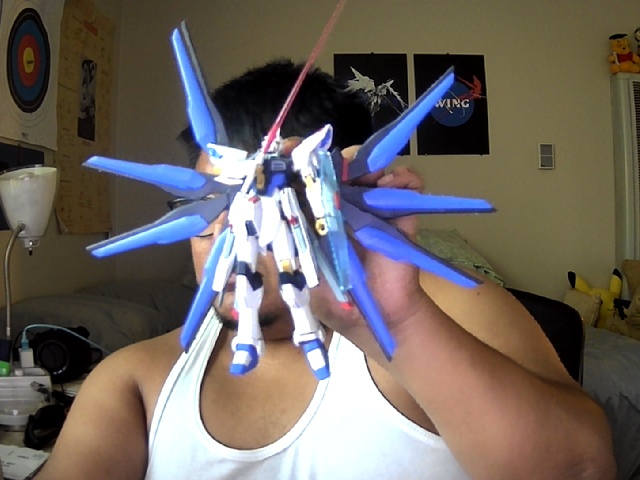Freedom-Destiny: (79, 1, 500, 381)
